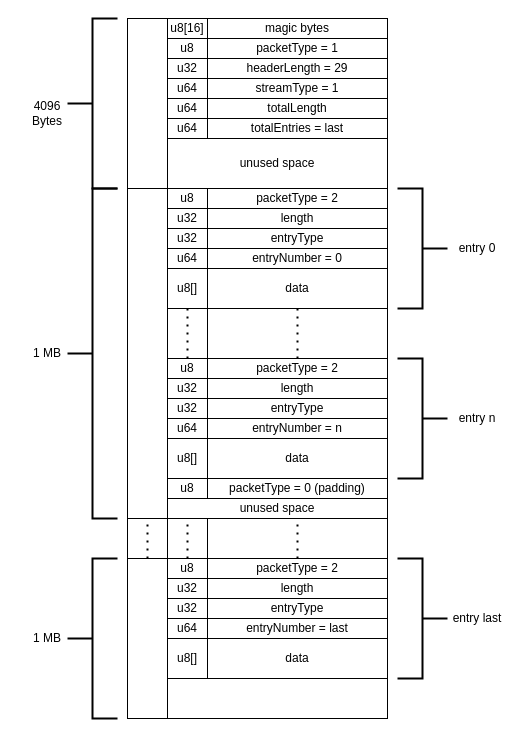
Some shapes in this 524 by 736 pixel diagram are drawn without their labels. The centre of each missing label's shape, as x and y in pixels:
"available space" goes at point (277, 698).
"Data page 0" goes at point (147, 353).
"Data page p" goes at point (147, 638).
"Header" goes at point (147, 103).
